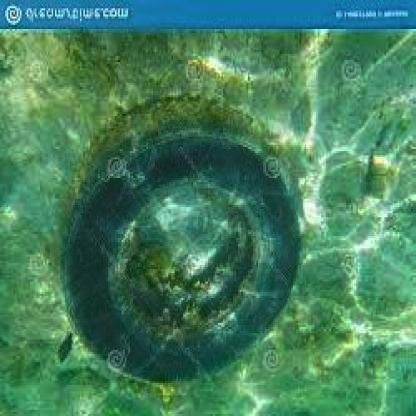tire: (67, 106, 306, 400)
